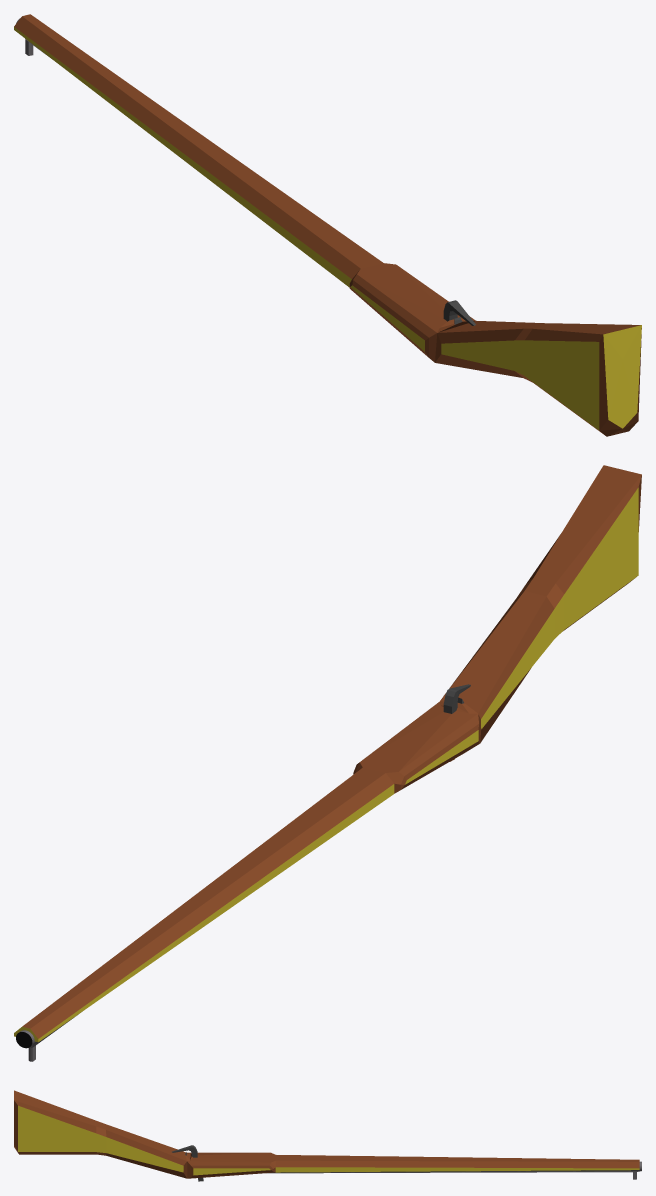
File: gun.fbx
3 views of the same model, one above another, from view 1: azimuth 30°, elevation 25°; view 2: azimuth 150°, elevation 25°; view 3: azimuth 270°, elevation 25° (orthographic). The views are drawn at different scales.
Visible parts, largest first — view 1: Cylinder; view 2: Cylinder; view 3: Cylinder.
Boxes of the visible parts, bbox=[...] form: Cylinder: bbox=[14, 14, 641, 436]; Cylinder: bbox=[14, 465, 641, 1061]; Cylinder: bbox=[14, 1090, 641, 1181].
Bounding box in the file's own units: 86.55 × 258 × 1754.
